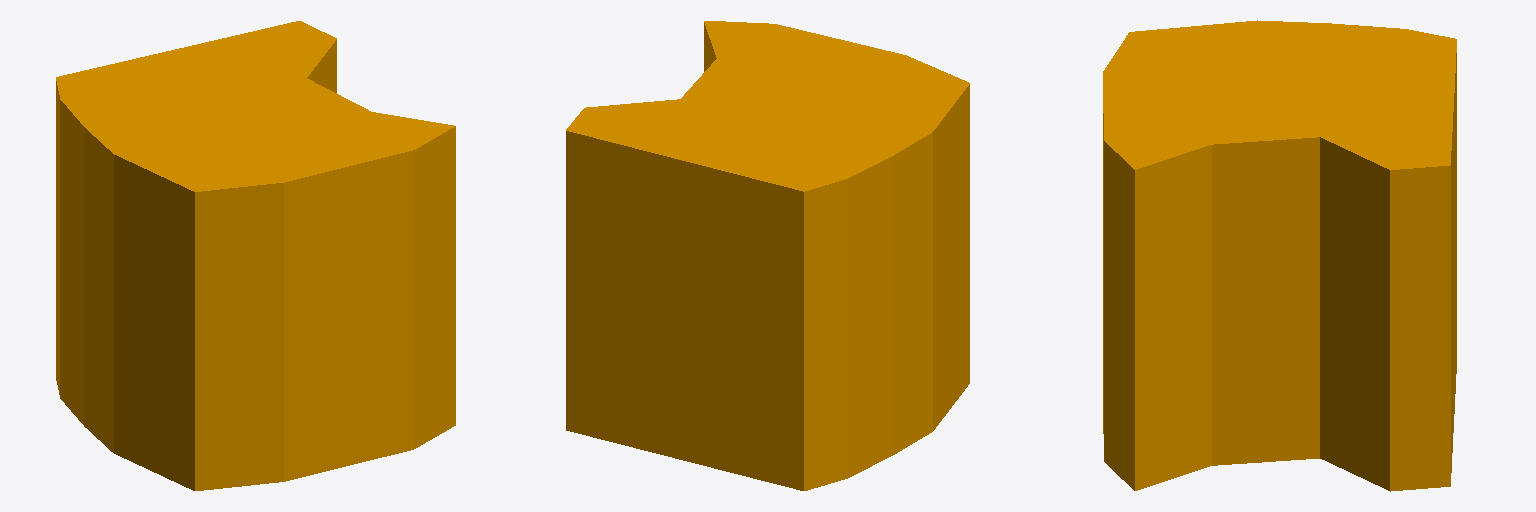
URDF robot description (object):
<?xml version="1.0"?>
<robot name="object">
  <link name="object">
    <visual>
      <origin xyz="0 0 0"/>
      <geometry>
        <mesh filename="meshes/polygon/poly_7_s.obj" scale=".03 .03 .03"/>
      </geometry>
    </visual>
    <collision>
  <origin xyz="0 0 0"/>
  <geometry>
    <mesh filename="meshes/polygon/poly_7_s_0decompose.obj" scale=".03 .03 .03"/>
<!--          <mesh filename="meshes/custom/obj0_ball.obj" scale=".05 .05 .05"/>-->
  </geometry>
</collision><collision>
  <origin xyz="0 0 0"/>
  <geometry>
    <mesh filename="meshes/polygon/poly_7_s_1decompose.obj" scale=".03 .03 .03"/>
<!--          <mesh filename="meshes/custom/obj0_ball.obj" scale=".05 .05 .05"/>-->
  </geometry>
</collision>

<!--    <collision>-->
<!--      <origin xyz="0 0 0"/>-->
<!--      <geometry>-->
<!--        <mesh filename="meshes/polygon/poly_7_s.obj" scale=".03 .03 .03"/>-->
<!--&lt;!&ndash;          <mesh filename="meshes/custom/obj0_ball.obj" scale=".05 .05 .05"/>&ndash;&gt;-->
<!--      </geometry>-->
<!--    </collision>-->
    <inertial>
      <density value="1000.0"/>
    </inertial>
  </link>
</robot>

--- What the picture shows (computed from the rendered views, not written in the file) ---
3 views of the same robot in one strip: view 1: azimuth 30°, elevation 25°; view 2: azimuth 150°, elevation 25°; view 3: azimuth 270°, elevation 25° (orthographic).
Robot: object — 1 links, 0 joints (none); root link object; default pose: all joints at 0.
Links seen in each view (by area): view 1: object; view 2: object; view 3: object.
Boxes of the visible links, box(x1,y1,x2,y2) form: object: box(56, 21, 455, 490); object: box(566, 21, 969, 490); object: box(1103, 20, 1456, 491).
Size in the robot's own frame: 0.06 by 0.06 by 0.06 metres.
Meshes: 1 distinct files referenced, 1 mesh visuals loaded (1 OBJ).
